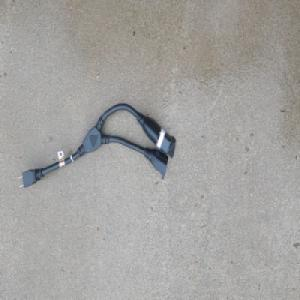Wire: (17, 101, 176, 190)
